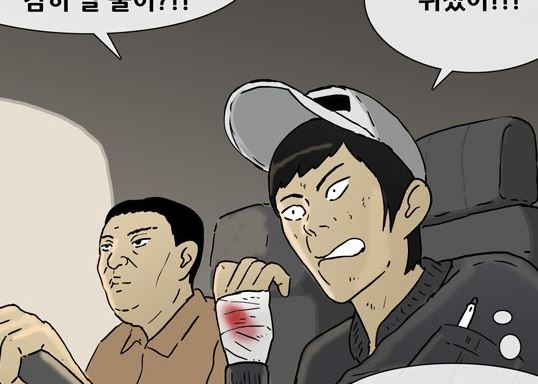hat: (219, 77, 440, 181)
